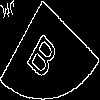B: (25, 24, 64, 81)
